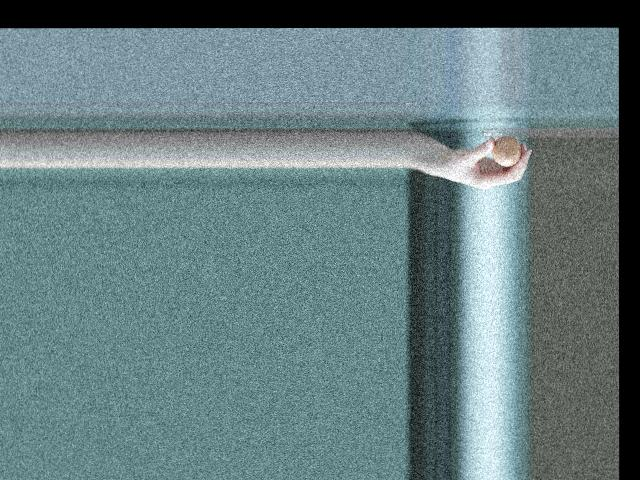egg: (491, 135, 521, 166)
